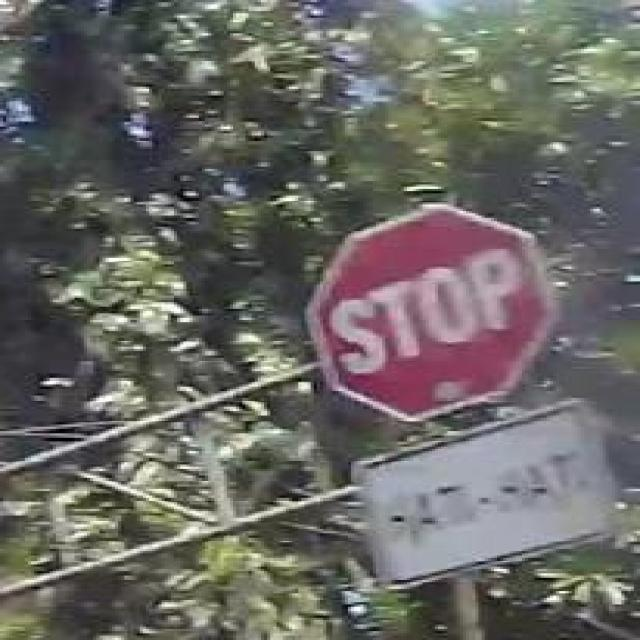traffic sign: (314, 213, 541, 408)
